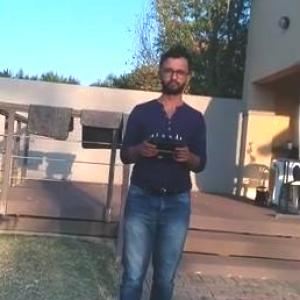follow: (109, 38, 213, 299)
